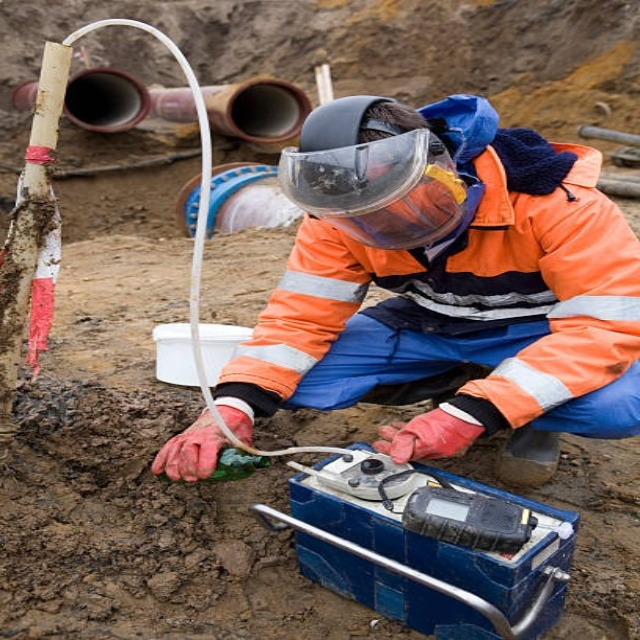Guantes: (151, 401, 256, 481), (368, 403, 486, 463)
